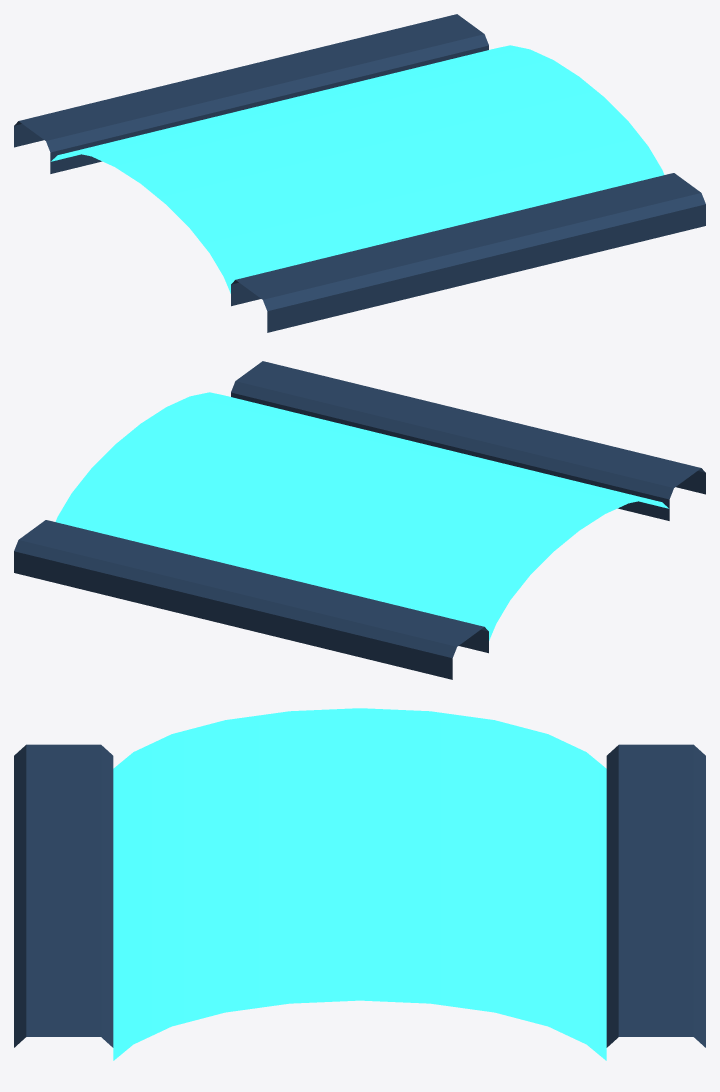
File: Light_Trim_01_Straight_10.fbx
3 renders of one model, top to bottom at view 1: azimuth 30°, elevation 25°; view 2: azimuth 150°, elevation 25°; view 3: azimuth 270°, elevation 25°, orthographic. The views are drawn at different scales.
Visible parts, largest first — view 1: Light_Trim_01_Straight_10.001; view 2: Light_Trim_01_Straight_10.001; view 3: Light_Trim_01_Straight_10.001.
Part boxes in pixels (x1,y1,x2,y2): Light_Trim_01_Straight_10.001: [14, 14, 705, 332]; Light_Trim_01_Straight_10.001: [14, 361, 705, 679]; Light_Trim_01_Straight_10.001: [14, 708, 705, 1060].
Bounding box in the file's own units: 0.1 × 0.0123 × 0.1.
